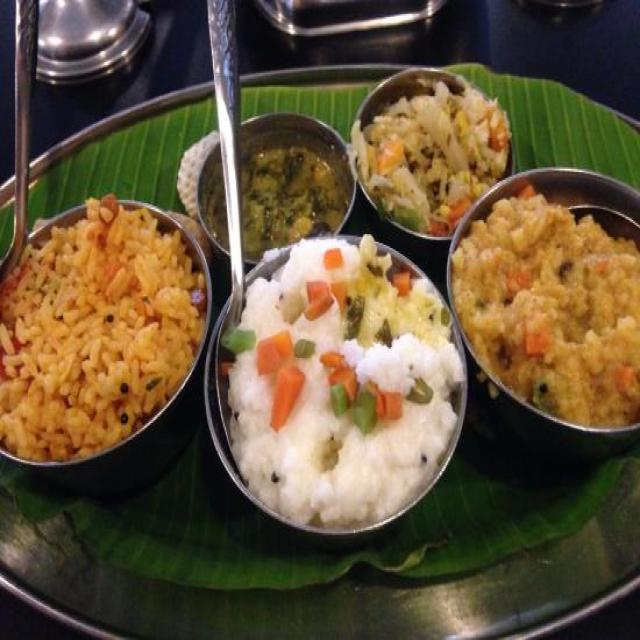veg meals: (0, 72, 640, 544)
